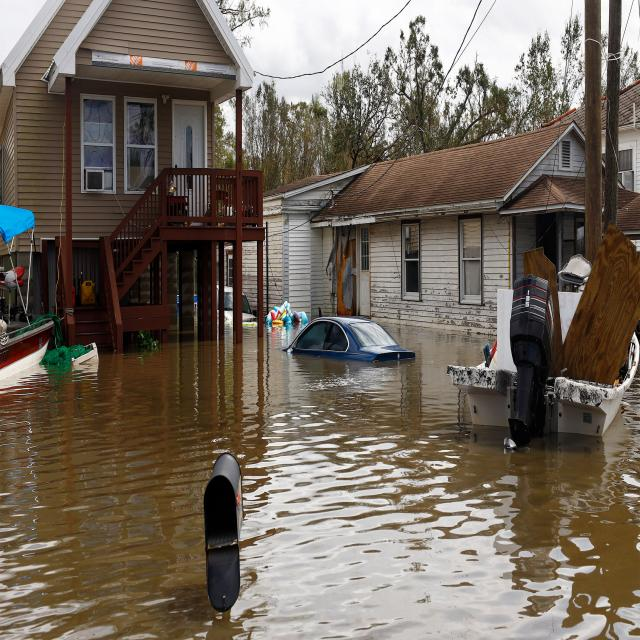Hurricane: (3, 196, 640, 639)
